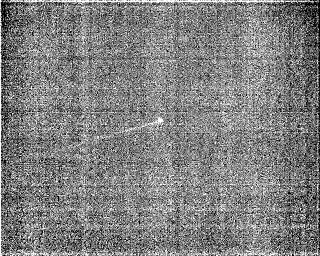AIRPLANE: (90, 115, 166, 142)
